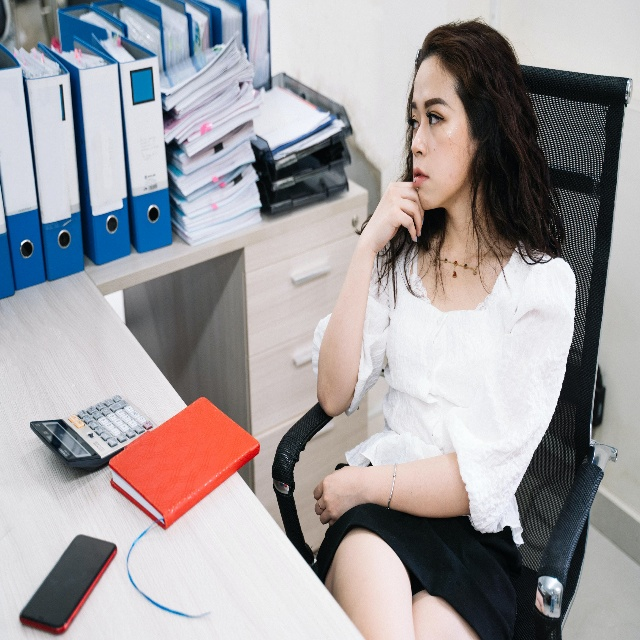Sin_guantes: (364, 179, 425, 257), (312, 464, 367, 529)
